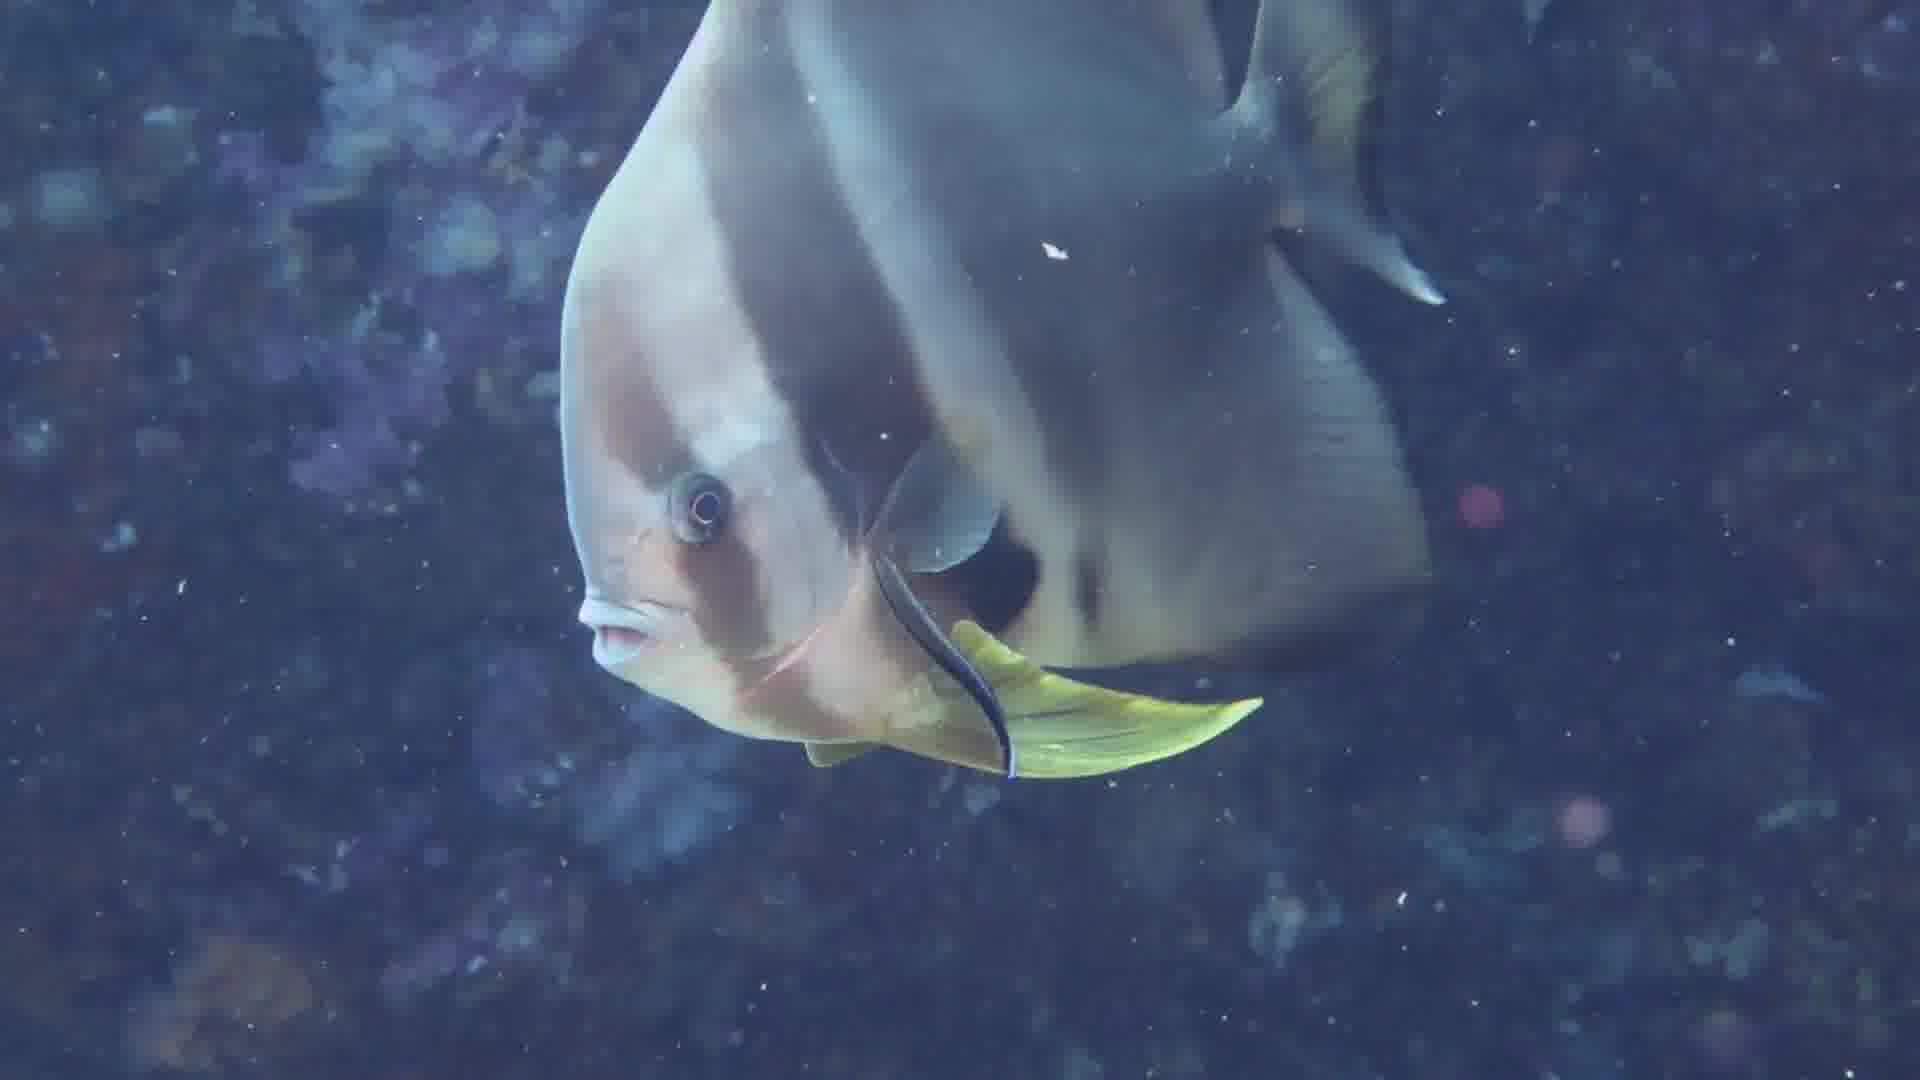Platax teira: (509, 1, 1534, 818)
